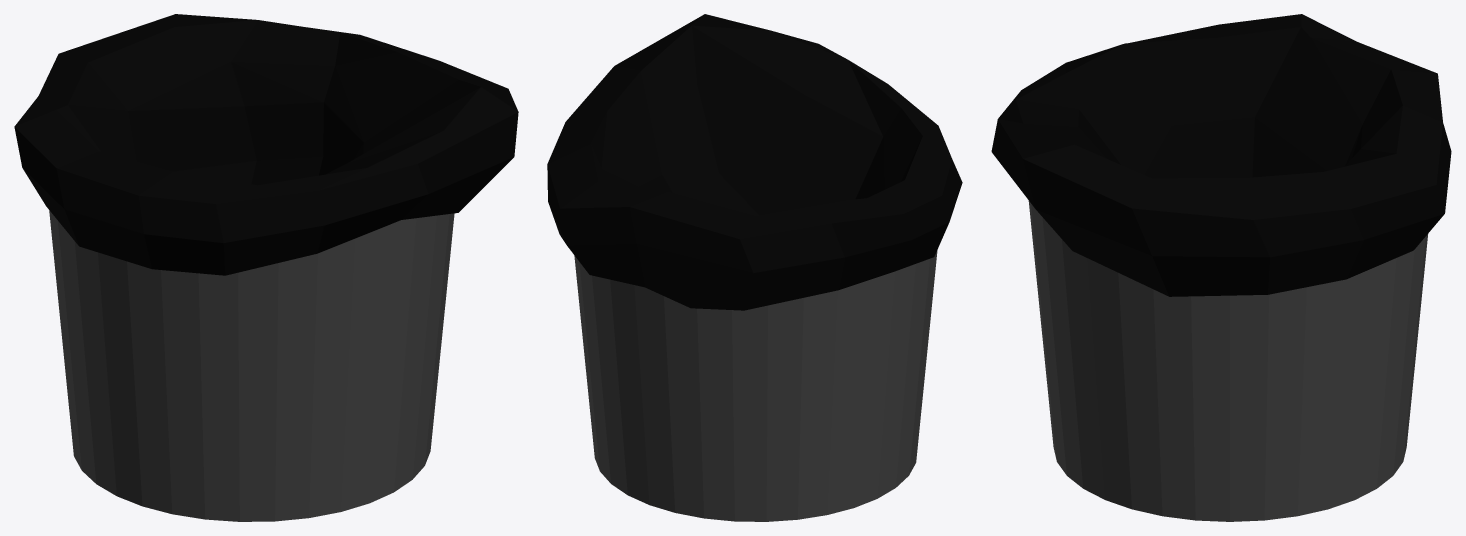
The model's file is TrashCan2.fbx.
3 renders of one model, left to right at view 1: azimuth 30°, elevation 25°; view 2: azimuth 150°, elevation 25°; view 3: azimuth 270°, elevation 25°, orthographic. The views are drawn at different scales.
Parts seen in each view (by area): view 1: TrashCan2; view 2: TrashCan2; view 3: TrashCan2.
Boxes of the visible parts, bbox=[...] form: TrashCan2: bbox=[14, 14, 518, 521]; TrashCan2: bbox=[547, 14, 962, 521]; TrashCan2: bbox=[991, 14, 1451, 521].
Bounding box in the file's own units: 263 × 234 × 260.
